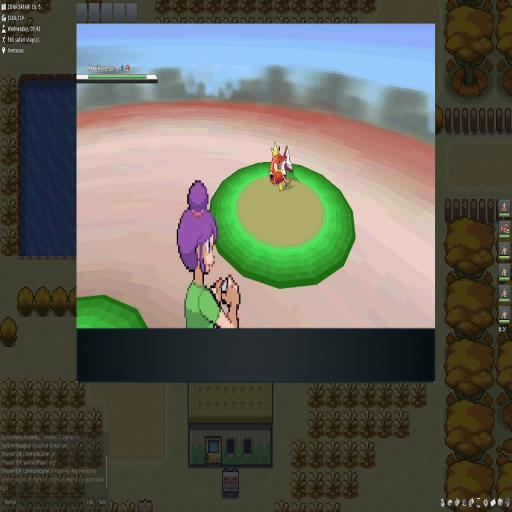MAGIKARP: (269, 142, 295, 192)
